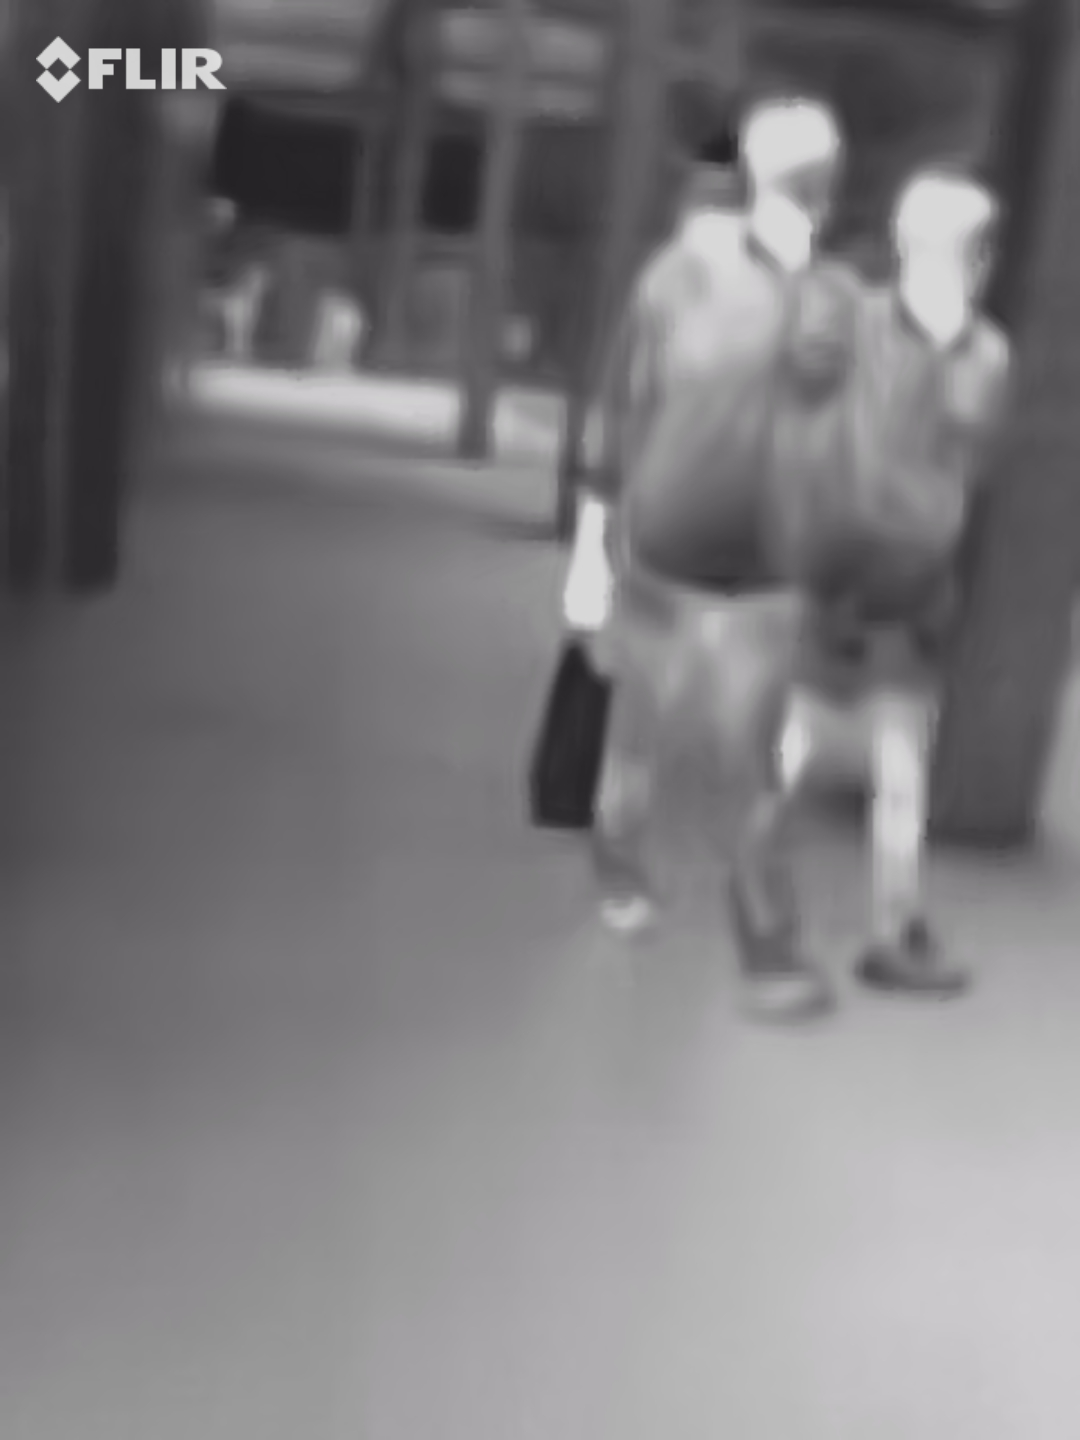head: (889, 160, 1007, 313), (736, 81, 842, 239)
